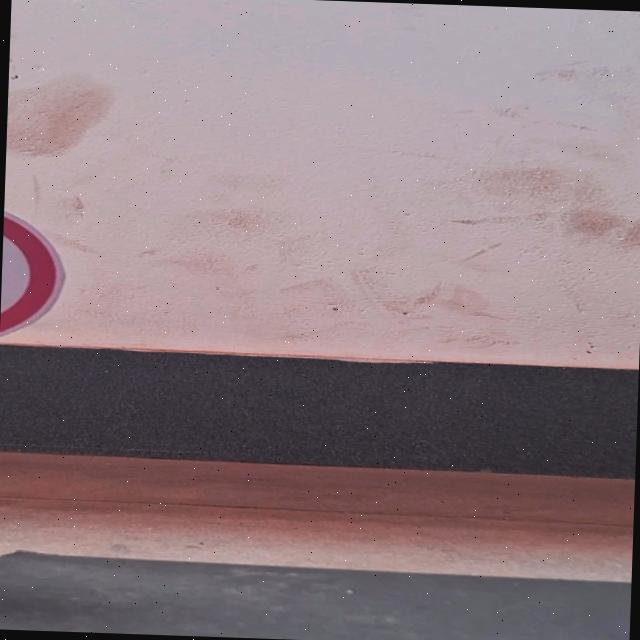Speed40: (0, 192, 73, 351)
